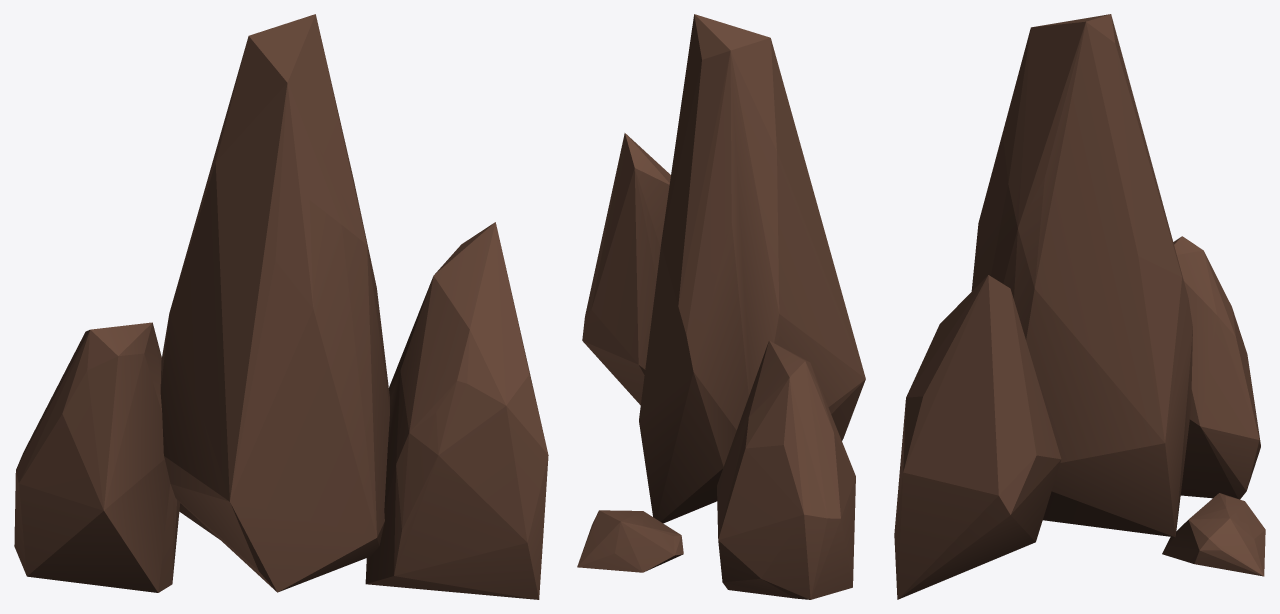
Rendered from rock_e.glb.
The picture shows the model from 3 angles, left to right: view 1: azimuth 30°, elevation 25°; view 2: azimuth 150°, elevation 25°; view 3: azimuth 270°, elevation 25°; orthographic projection. The views are drawn at different scales.
Parts seen in each view (by area): view 1: Rock; view 2: Rock; view 3: Rock.
Boxes of the visible parts, x1,y1,x2,y2 form: Rock: (14,14,548,599); Rock: (577,14,865,599); Rock: (894,14,1265,599).
Size of the model in its own units: 1.62 by 2.19 by 1.35.
